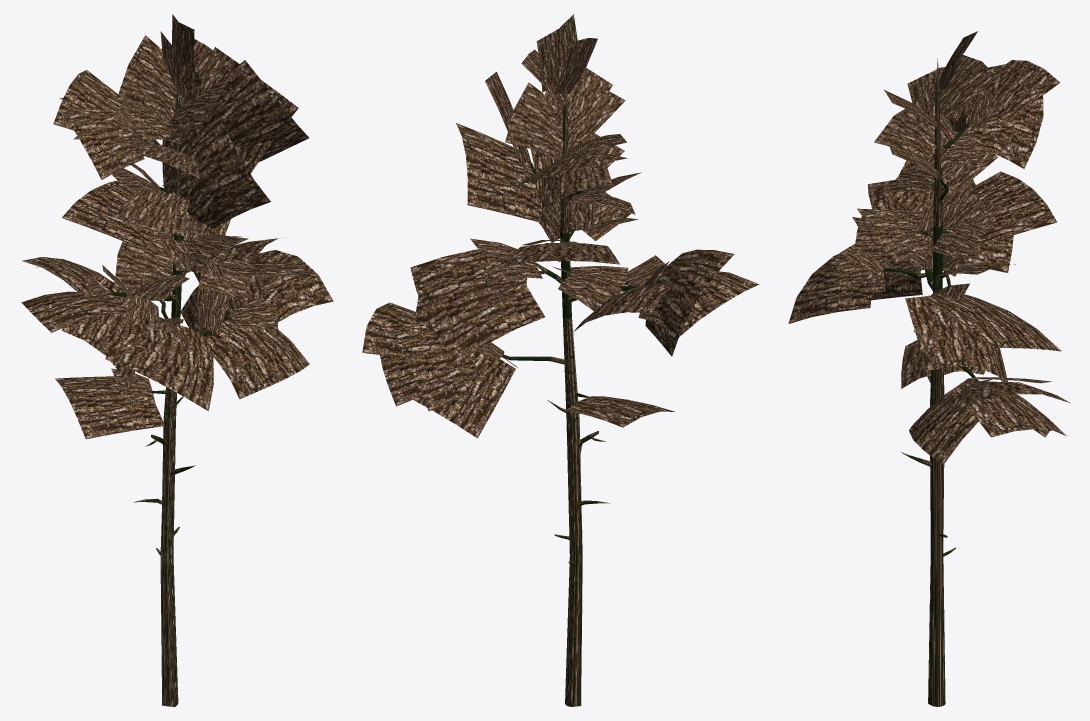
The model's file is scots_pine.glb.
The picture shows the model from 3 angles, left to right: view 1: azimuth 30°, elevation 25°; view 2: azimuth 150°, elevation 25°; view 3: azimuth 270°, elevation 25°; orthographic projection. The views are drawn at different scales.
Parts seen in each view (by area): view 1: world; view 2: world; view 3: world.
Boxes of the visible parts, x1,y1,x2,y2 form: world: (21, 14, 333, 706); world: (362, 14, 759, 706); world: (788, 31, 1070, 706).
Bounding box in the file's own units: 6.87 × 13.88 × 5.19.
Materials: 1 (1 with a texture image).
